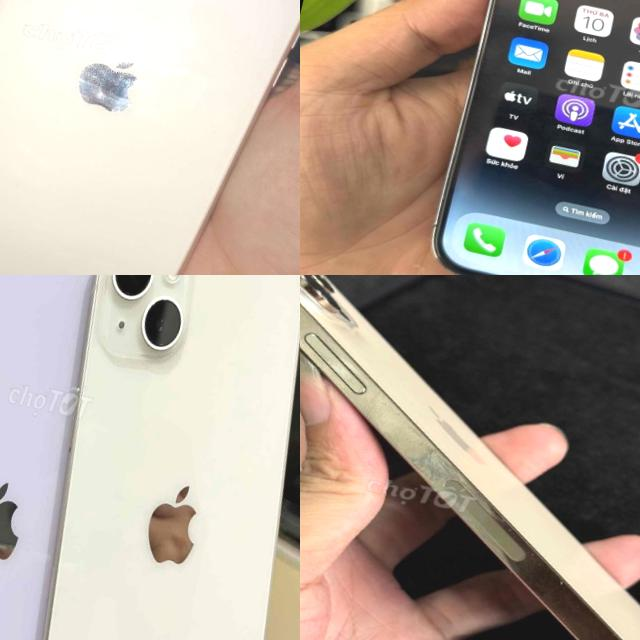gen_14: (300, 275, 640, 640), (0, 275, 300, 640), (419, 0, 640, 275), (0, 275, 116, 640)
gen_7_8: (0, 0, 300, 275)
